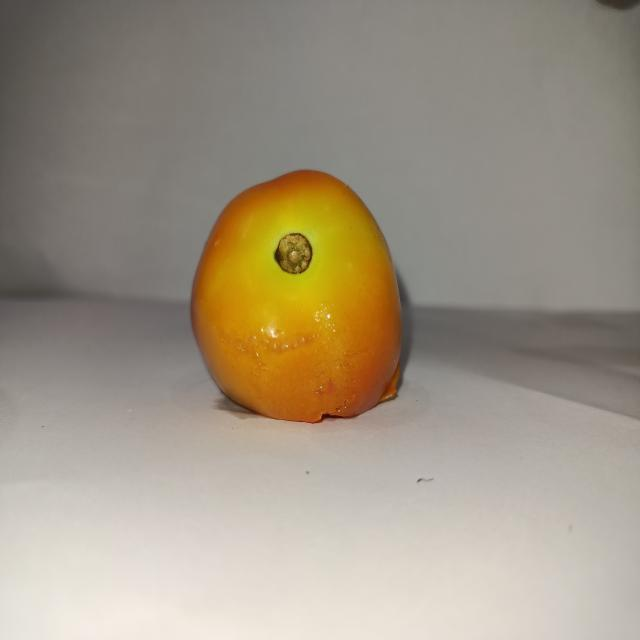Red: (189, 167, 403, 423)
